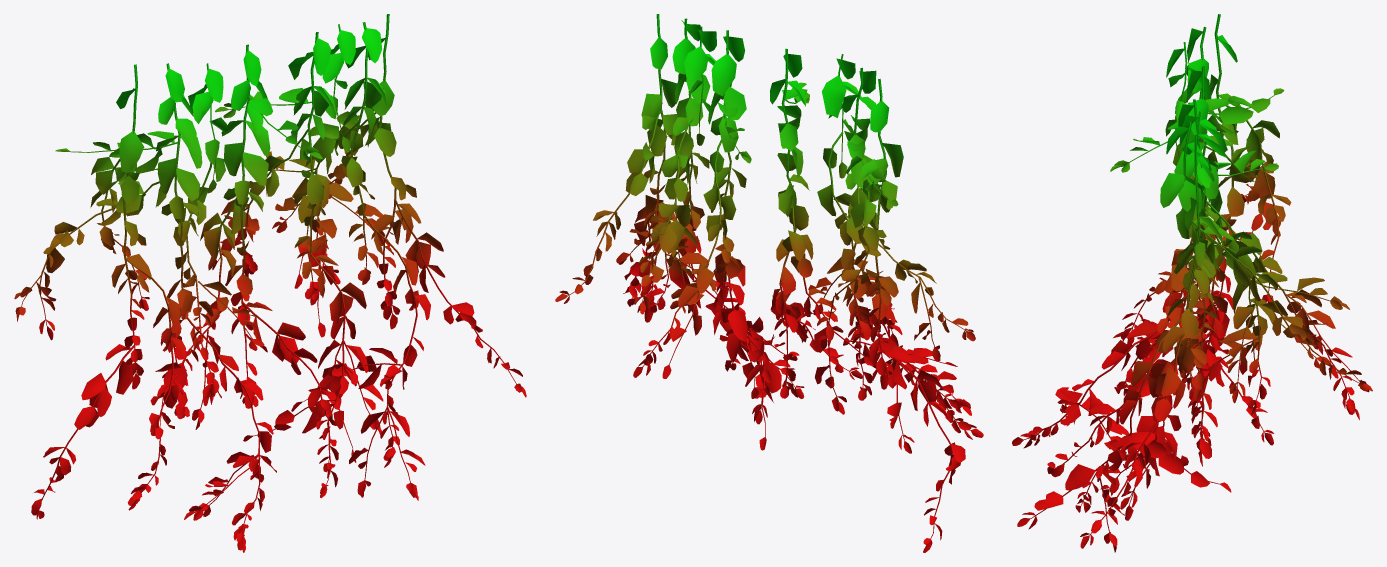
Rendered from Var11_LOD2.fbx.
3 views of the same model, side by side, from view 1: azimuth 30°, elevation 25°; view 2: azimuth 150°, elevation 25°; view 3: azimuth 270°, elevation 25° (orthographic). The views are drawn at different scales.
Visible parts, largest first — view 1: _8j4a_Var11_LOD2; view 2: _8j4a_Var11_LOD2; view 3: _8j4a_Var11_LOD2.
Part boxes in pixels (x1,y1,x2,y2): _8j4a_Var11_LOD2: (14,14,526,552); _8j4a_Var11_LOD2: (555,14,983,552); _8j4a_Var11_LOD2: (1012,14,1372,552).
Size of the model in its own units: 109 by 109 by 76.27.
